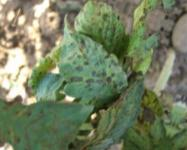Tomato leaf bacterial spot: (40, 15, 159, 118), (74, 59, 157, 150), (111, 86, 181, 150)
